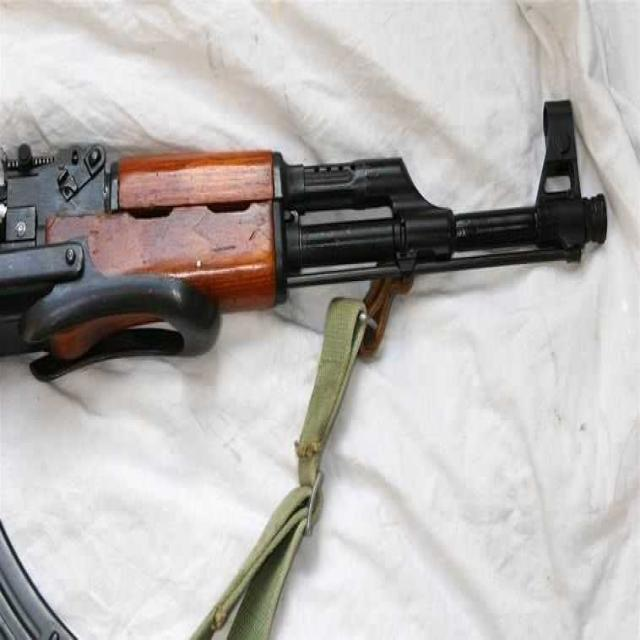heavyweapon: (1, 74, 616, 484)
